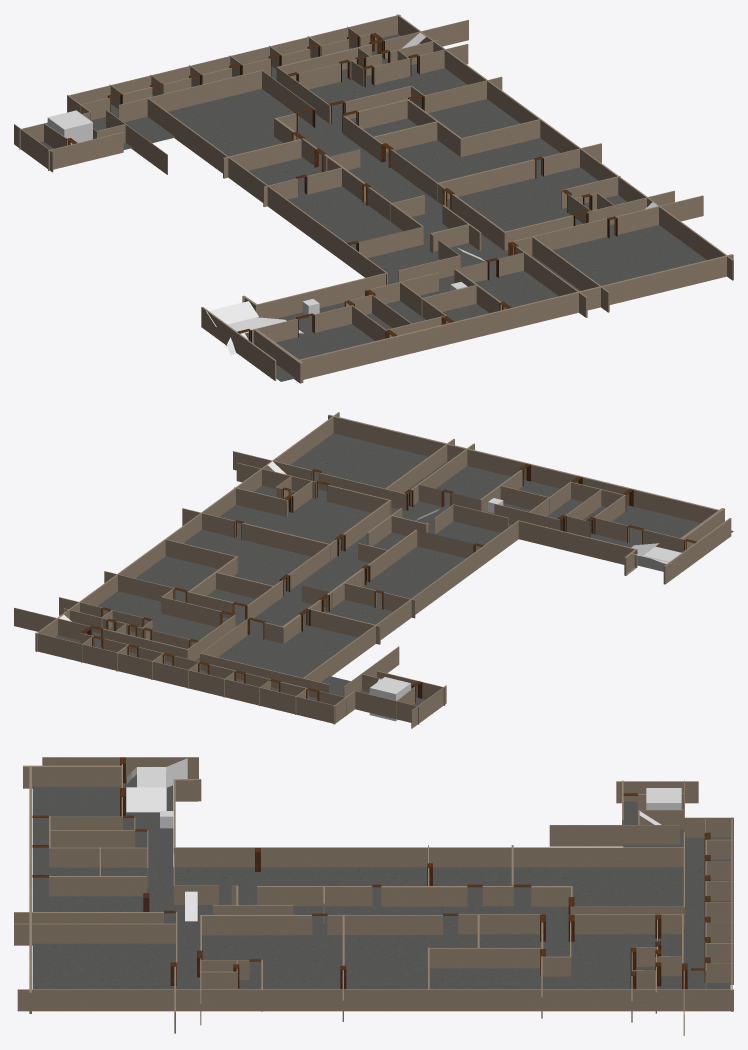
Rendered from lower.glb.
3 views of the same model, one above another, from view 1: azimuth 30°, elevation 25°; view 2: azimuth 150°, elevation 25°; view 3: azimuth 270°, elevation 25° (orthographic). The views are drawn at different scales.
Parts seen in each view (by area): view 1: Cube.087, Floor, Doors, Plane.007, Cube.003; view 2: Cube.087, Floor, Doors, Cube.003, Plane.007; view 3: Cube.087, Floor, Doors, Plane.007, Cube.003.
Boxes of the visible parts, <box> form: Cube.087: <box>14,14,733,383</box>; Floor: <box>40,34,706,381</box>; Doors: <box>66,33,617,342</box>; Plane.007: <box>206,32,425,355</box>; Cube.003: <box>47,110,92,144</box>; Cube.087: <box>14,412,731,728</box>; Floor: <box>55,433,733,721</box>; Doors: <box>80,463,696,702</box>; Cube.003: <box>369,677,410,721</box>; Plane.007: <box>59,543,681,621</box>; Cube.087: <box>14,757,733,1035</box>; Floor: <box>32,777,731,989</box>; Doors: <box>32,757,710,989</box>; Plane.007: <box>126,758,187,812</box>; Cube.003: <box>646,788,681,809</box>.
Bounding box in the file's own units: 52.25 × 3.01 × 60.99.
Materials: 3 (3 with a texture image).
